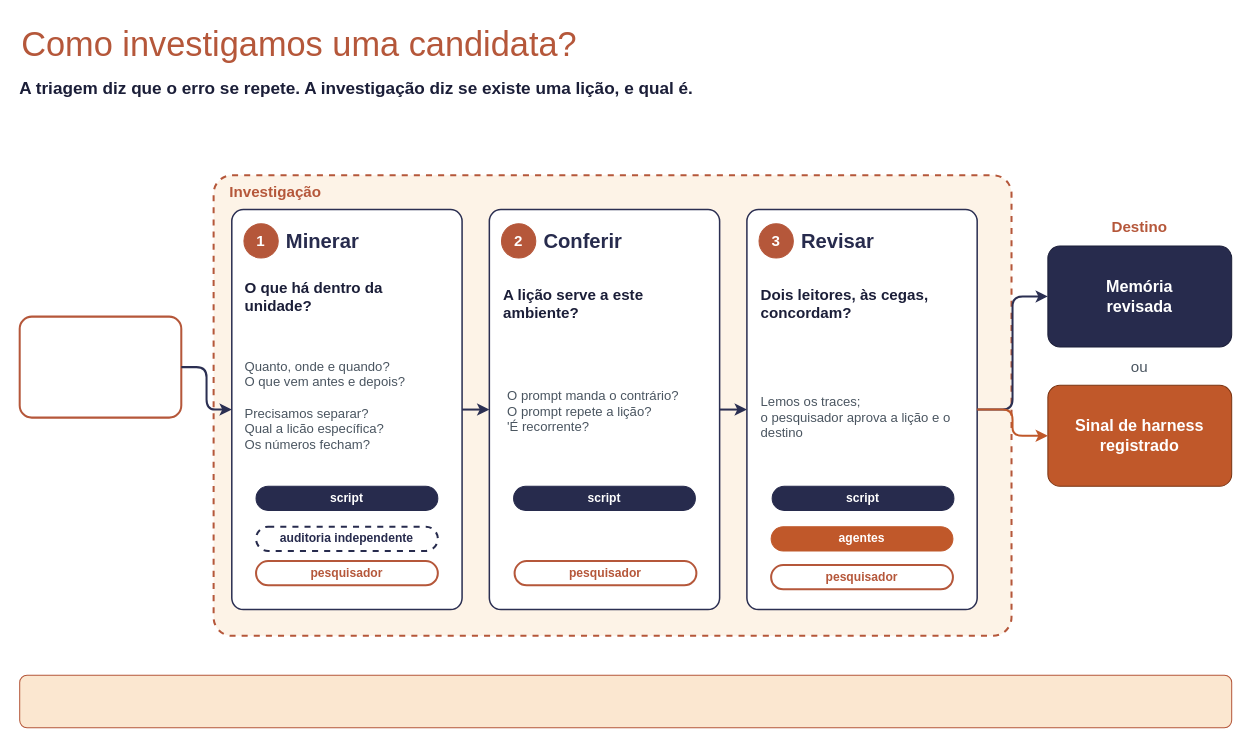
The diagram is 1249 pixels wide and 745 high, and some of its shapes have lost their labels. Each missing label, with the centre of its shape:
Em cada etapa, a lição pode voltar , mudar de destino ou seguir .: [625,701]
Unidade candidata: [100,366]
